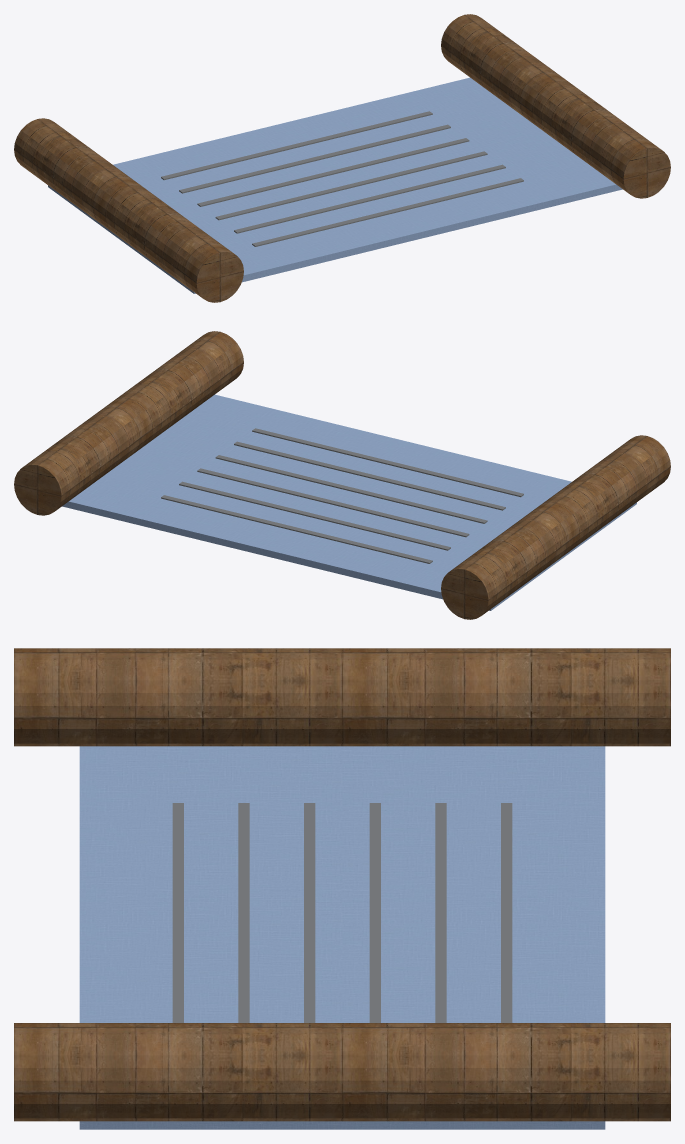
File: pergaminho.glb
3 views of the same model, one above another, from view 1: azimuth 30°, elevation 25°; view 2: azimuth 150°, elevation 25°; view 3: azimuth 270°, elevation 25° (orthographic). The views are drawn at different scales.
Visible parts, largest first — view 1: Superfície de escrita, Rolo, Rolo.001, Linha simbólica sem texto.003, Linha simbólica sem texto, Linha simbólica sem texto.002, Linha simbólica sem texto.004, Linha simbólica sem texto.001, Linha simbólica sem texto.005; view 2: Superfície de escrita, Rolo, Rolo.001, Linha simbólica sem texto.002, Linha simbólica sem texto.001, Linha simbólica sem texto.003, Linha simbólica sem texto.005, Linha simbólica sem texto.004, Linha simbólica sem texto; view 3: Superfície de escrita, Rolo, Rolo.001, Linha simbólica sem texto, Linha simbólica sem texto.001, Linha simbólica sem texto.002, Linha simbólica sem texto.003, Linha simbólica sem texto.004, Linha simbólica sem texto.005.
Part boxes in pixels (x1,y1,x2,y2): Superfície de escrita: [48, 77, 622, 293]; Rolo: [14, 118, 243, 302]; Rolo.001: [441, 14, 670, 198]; Linha simbólica sem texto.003: [215, 151, 487, 220]; Linha simbólica sem texto: [161, 111, 432, 180]; Linha simbólica sem texto.002: [197, 138, 469, 206]; Linha simbólica sem texto.004: [234, 164, 505, 233]; Linha simbólica sem texto.001: [179, 124, 450, 193]; Linha simbólica sem texto.005: [252, 178, 523, 246]; Superfície de escrita: [62, 394, 636, 610]; Rolo: [441, 435, 670, 619]; Rolo.001: [14, 331, 243, 515]; Linha simbólica sem texto.002: [197, 468, 469, 537]; Linha simbólica sem texto.001: [179, 481, 450, 550]; Linha simbólica sem texto.003: [215, 455, 487, 523]; Linha simbólica sem texto.005: [252, 428, 523, 497]; Linha simbólica sem texto.004: [234, 441, 505, 510]; Linha simbólica sem texto: [161, 495, 432, 563]; Superfície de escrita: [79, 746, 605, 1129]; Rolo: [14, 648, 670, 746]; Rolo.001: [14, 1023, 670, 1121]; Linha simbólica sem texto: [501, 803, 512, 1022]; Linha simbólica sem texto.001: [435, 803, 446, 1022]; Linha simbólica sem texto.002: [369, 803, 380, 1022]; Linha simbólica sem texto.003: [304, 803, 315, 1022]; Linha simbólica sem texto.004: [238, 803, 249, 1022]; Linha simbólica sem texto.005: [172, 803, 183, 1022].
Bounding box in the file's own units: 3 × 0.32 × 2.
3 materials, 2 textured.
